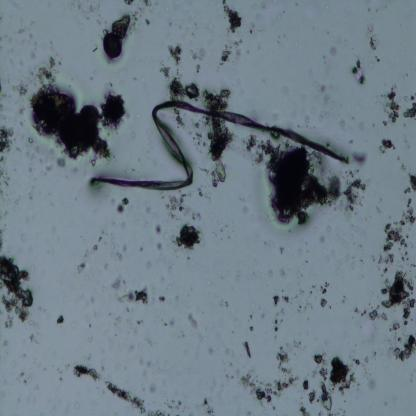Background material: (26, 84, 127, 167), (265, 142, 338, 231), (242, 337, 304, 404), (379, 194, 416, 271), (368, 270, 416, 329), (1, 256, 34, 322), (302, 348, 333, 411), (204, 116, 231, 183), (106, 381, 146, 415), (164, 70, 201, 104), (341, 167, 368, 213), (172, 222, 202, 251), (26, 57, 56, 86), (381, 82, 400, 126), (202, 87, 231, 114), (113, 12, 138, 39), (318, 90, 337, 123), (223, 0, 242, 33), (393, 334, 416, 361), (330, 356, 350, 387), (164, 192, 192, 214), (26, 145, 46, 173), (166, 40, 186, 66), (74, 364, 101, 383), (74, 0, 95, 22), (0, 126, 16, 154), (339, 372, 357, 396), (352, 58, 366, 87), (218, 43, 232, 68), (187, 45, 205, 63), (241, 134, 258, 153), (114, 290, 135, 305), (363, 372, 378, 392), (0, 167, 13, 190), (254, 140, 266, 164), (173, 106, 185, 130), (350, 151, 370, 165), (139, 356, 152, 377), (401, 102, 416, 120), (378, 137, 396, 152), (135, 286, 149, 305), (186, 312, 200, 329), (233, 36, 244, 57), (12, 82, 28, 96), (117, 197, 129, 215), (369, 33, 381, 50), (202, 397, 213, 415), (110, 248, 124, 262), (147, 408, 170, 416), (192, 131, 205, 145), (159, 63, 172, 77), (166, 398, 181, 410), (0, 85, 12, 100), (407, 172, 416, 192), (243, 340, 252, 360), (27, 181, 36, 200), (299, 399, 309, 416), (15, 372, 29, 384), (30, 332, 42, 346), (319, 280, 330, 295), (327, 45, 340, 57), (399, 160, 410, 174), (112, 275, 122, 290), (5, 314, 14, 330), (190, 211, 203, 222), (337, 117, 347, 131), (149, 381, 158, 396), (112, 314, 123, 326), (196, 182, 204, 198), (96, 5, 102, 26), (143, 336, 154, 347), (376, 194, 382, 214), (248, 20, 256, 34), (76, 261, 85, 273), (403, 95, 416, 103), (325, 408, 338, 416), (219, 298, 229, 308), (36, 302, 46, 312), (155, 224, 163, 236), (0, 226, 4, 250), (84, 249, 91, 262), (57, 313, 64, 326), (3, 32, 12, 42), (272, 292, 278, 307), (298, 304, 307, 314), (86, 295, 94, 306), (281, 293, 289, 304), (58, 158, 66, 169), (0, 210, 9, 219), (366, 24, 376, 32), (15, 27, 25, 35), (318, 234, 326, 244), (28, 50, 36, 60), (206, 346, 216, 354), (86, 333, 94, 343), (0, 155, 7, 166), (17, 105, 24, 116), (138, 6, 144, 18), (135, 316, 144, 324), (98, 230, 104, 242), (90, 245, 99, 253), (370, 253, 377, 263), (159, 275, 166, 285), (145, 260, 152, 270), (2, 338, 8, 349), (144, 206, 152, 214), (380, 119, 388, 127), (319, 86, 327, 94), (352, 306, 360, 314), (302, 116, 309, 125), (143, 0, 152, 7), (166, 283, 175, 290), (360, 121, 366, 131), (2, 224, 8, 234), (196, 64, 202, 74), (104, 262, 110, 272), (86, 351, 92, 361), (403, 187, 411, 194), (22, 235, 29, 243), (124, 305, 131, 313), (10, 359, 18, 366), (361, 309, 368, 317), (28, 136, 34, 145), (169, 317, 175, 326), (323, 55, 328, 65), (322, 299, 327, 309), (124, 0, 134, 5), (45, 166, 52, 173), (56, 367, 63, 374), (374, 54, 380, 62), (245, 410, 253, 416), (354, 358, 362, 364), (121, 243, 127, 251), (0, 104, 6, 112), (0, 115, 8, 121), (64, 364, 72, 370), (280, 270, 286, 278), (341, 296, 347, 304), (224, 348, 230, 356), (158, 243, 163, 252), (356, 244, 363, 250), (92, 47, 98, 54), (161, 321, 168, 327), (341, 409, 347, 416), (29, 32, 34, 40), (0, 13, 5, 21), (34, 382, 38, 392), (160, 295, 165, 303), (56, 60, 62, 66), (30, 320, 36, 326), (58, 375, 64, 381), (298, 288, 304, 294), (13, 198, 19, 204), (248, 326, 254, 332), (103, 28, 108, 35), (100, 365, 105, 372), (16, 147, 21, 154), (50, 42, 54, 50), (18, 58, 22, 66), (268, 269, 272, 277), (194, 122, 200, 127), (326, 142, 332, 147), (181, 332, 186, 338), (342, 398, 347, 404), (42, 367, 48, 372), (130, 345, 135, 351), (0, 189, 4, 196), (364, 357, 368, 364), (280, 247, 284, 254), (22, 352, 27, 357), (187, 411, 192, 416), (348, 139, 353, 144), (175, 296, 180, 301), (19, 121, 24, 126), (71, 323, 76, 328), (229, 362, 233, 368), (372, 351, 376, 357), (281, 308, 285, 314), (88, 322, 92, 328), (311, 284, 317, 288), (367, 7, 371, 12), (403, 123, 408, 127), (360, 259, 364, 264), (318, 411, 322, 416), (146, 20, 150, 25), (274, 319, 278, 324), (231, 375, 234, 381), (0, 35, 3, 41), (274, 335, 278, 339), (294, 294, 298, 298), (187, 256, 191, 260), (225, 374, 229, 378), (397, 156, 400, 161), (140, 247, 143, 252), (273, 405, 276, 410), (114, 332, 117, 337), (328, 306, 332, 309), (169, 23, 172, 27), (249, 315, 252, 319), (304, 260, 308, 263), (310, 304, 312, 309), (275, 328, 278, 331), (48, 250, 50, 254), (281, 320, 283, 323), (310, 291, 312, 294)
Cotton: (90, 92, 351, 194)
Diatom: (103, 32, 123, 60)
